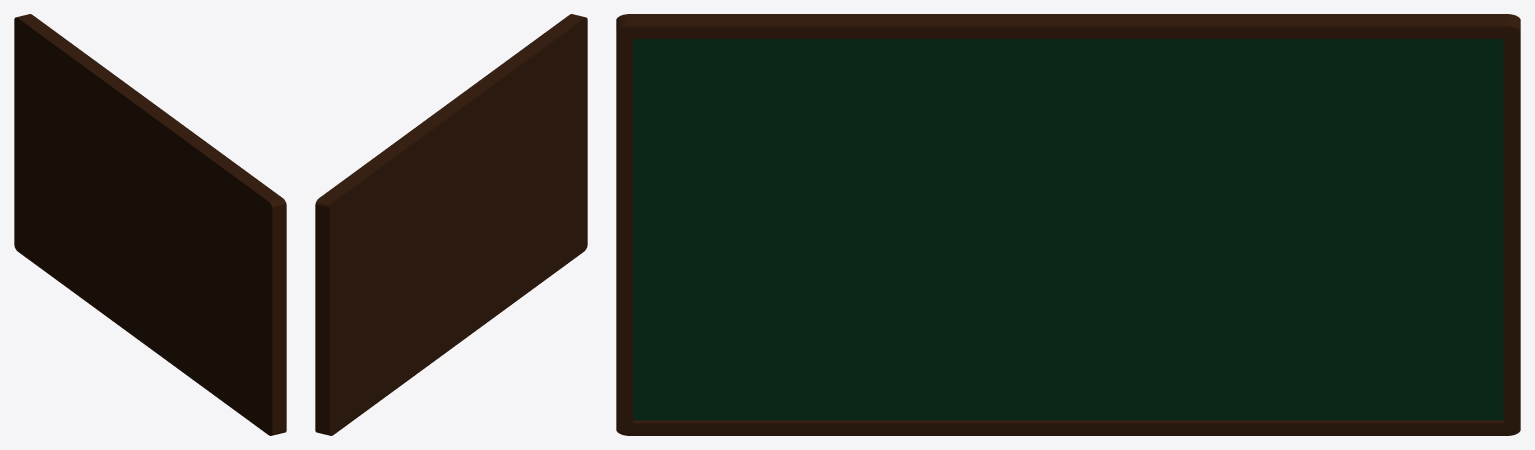
The model's file is Blackboard.fbx.
3 views of the same model, side by side, from view 1: azimuth 30°, elevation 25°; view 2: azimuth 150°, elevation 25°; view 3: azimuth 270°, elevation 25° (orthographic). The views are drawn at different scales.
Visible parts, largest first — view 1: Blackboard; view 2: Blackboard; view 3: Blackboard.
Boxes of the visible parts, <box> form: Blackboard: <box>14,14,286,435</box>; Blackboard: <box>315,14,587,435</box>; Blackboard: <box>616,14,1520,435</box>.
Bounding box in the file's own units: 210 × 3219 × 6438.
